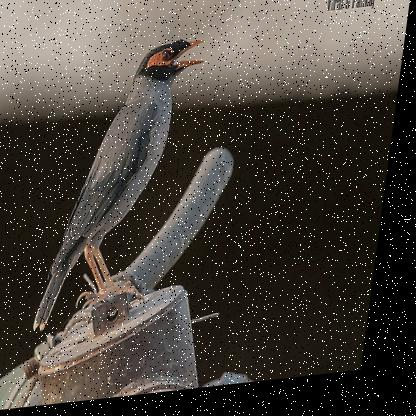Burung: (40, 41, 210, 335)
